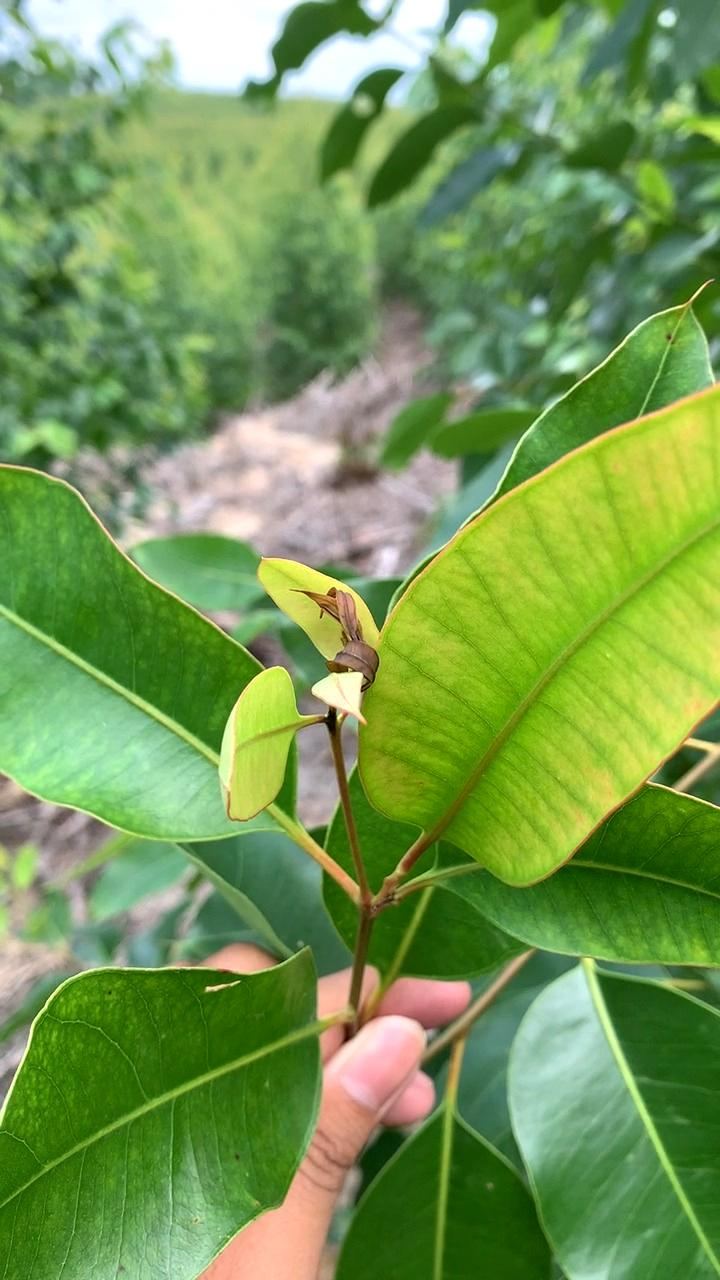Helopeltis-Withered Sprout: (286, 582, 381, 691)
